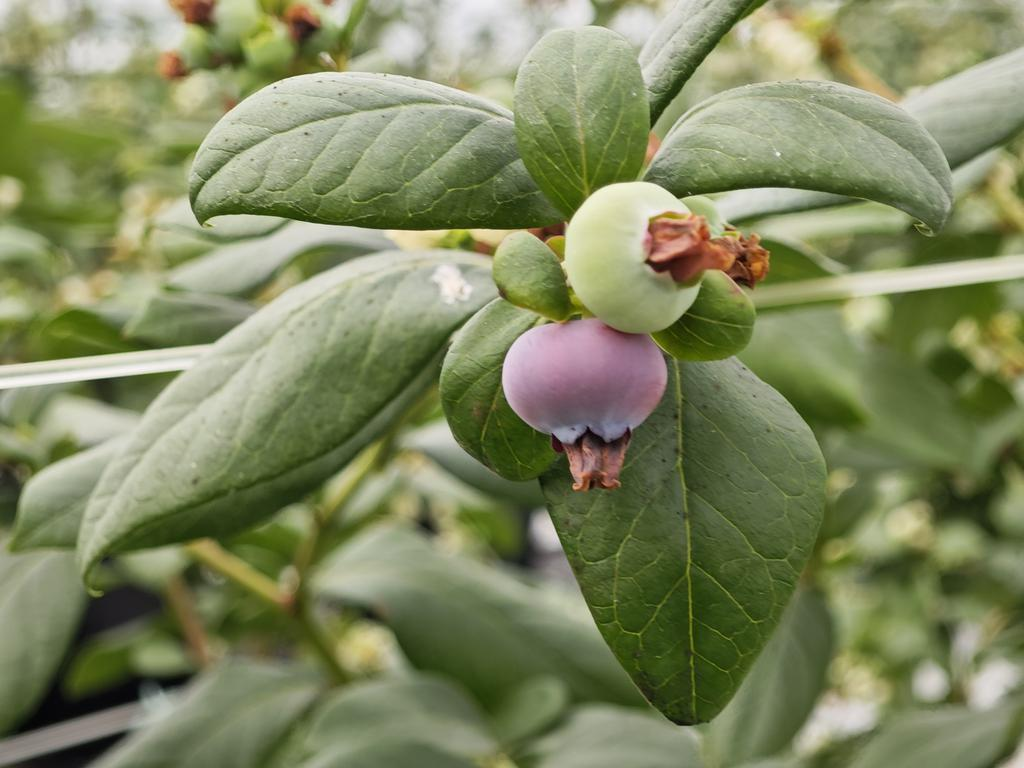Semi-RipeBlueBerry: (496, 311, 673, 451)
UnripeBlueBerry: (561, 177, 711, 336)
